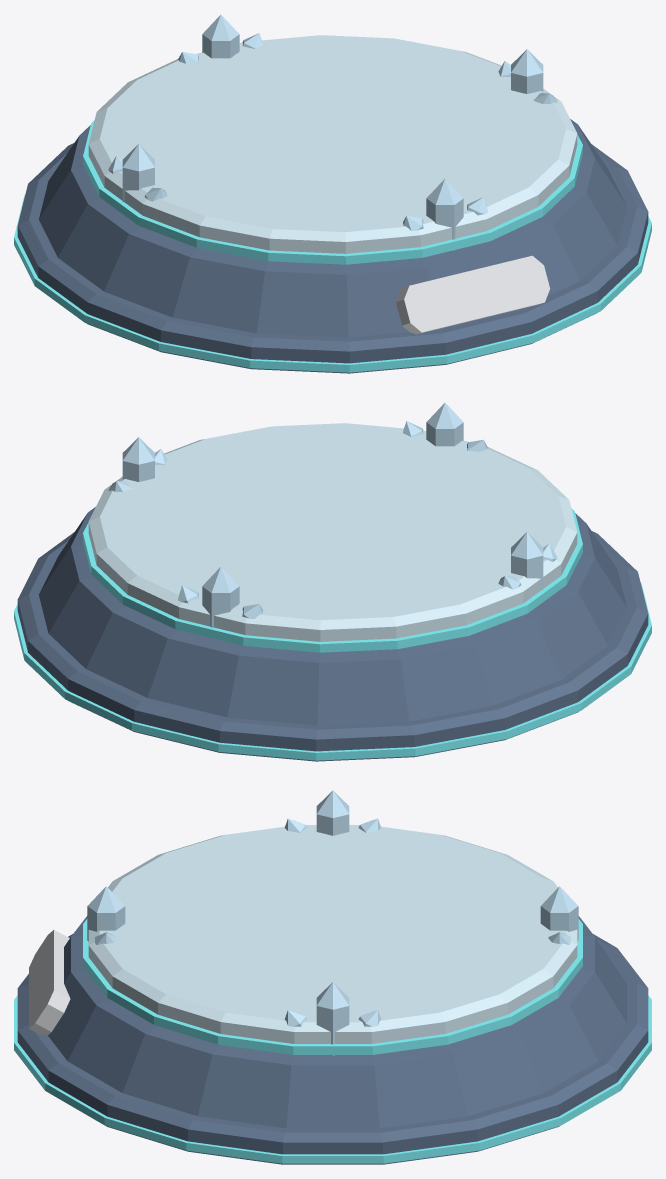
Rendered from TitanPedestal.glb.
3 renders of one model, top to bottom at view 1: azimuth 30°, elevation 25°; view 2: azimuth 150°, elevation 25°; view 3: azimuth 270°, elevation 25°, orthographic.
Visible parts, largest first — view 1: Frost, Navy, Glow, Plaque, Crystal; view 2: Frost, Navy, Glow, Crystal; view 3: Frost, Navy, Glow, Crystal, Plaque.
Boxes of the visible parts, box(x1,y1,x2,y2) form: Frost: box(88, 35, 577, 253); Navy: box(17, 119, 648, 373); Glow: box(14, 120, 651, 372); Plaque: box(396, 255, 550, 334); Crystal: box(108, 14, 557, 250); Frost: box(88, 423, 577, 641); Navy: box(17, 507, 648, 761); Glow: box(14, 508, 651, 760); Crystal: box(108, 402, 557, 638); Frost: box(88, 825, 577, 1043); Navy: box(17, 916, 648, 1164); Glow: box(14, 919, 651, 1163); Crystal: box(87, 790, 578, 1055); Plaque: box(29, 930, 70, 1035).
Bounding box in the file's own units: 2 × 0.5266 × 2.
